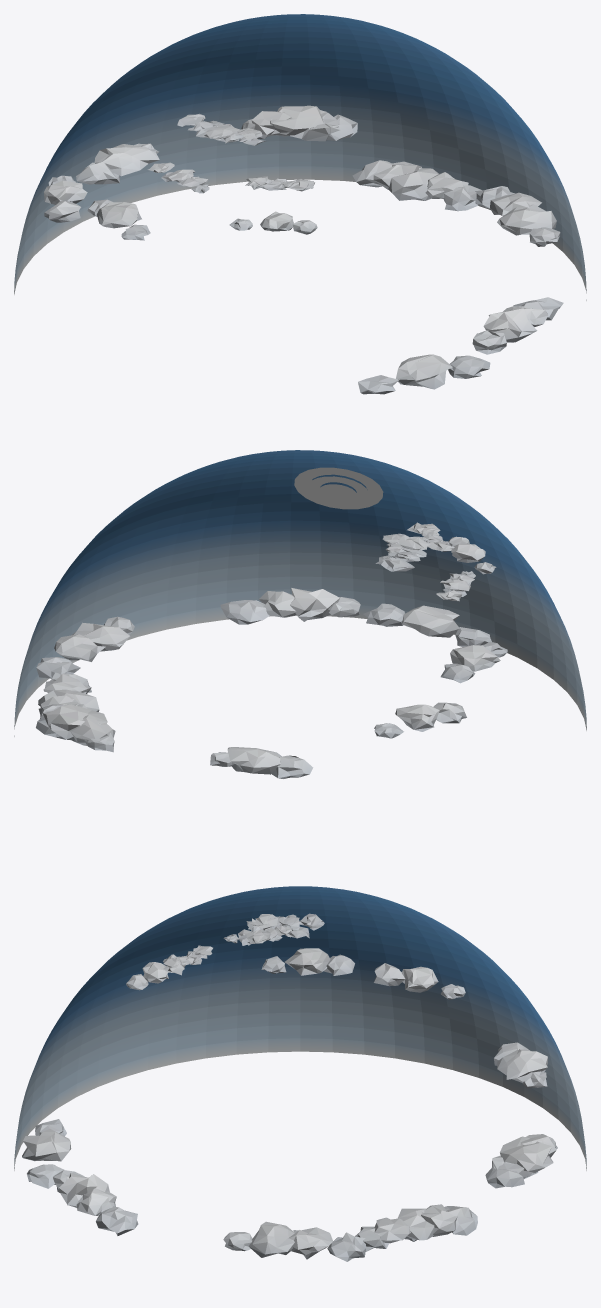
File: sky-day-dome.glb
3 views of the same model, one above another, from view 1: azimuth 30°, elevation 25°; view 2: azimuth 150°, elevation 25°; view 3: azimuth 270°, elevation 25° (orthographic).
Visible parts, largest first — view 1: sky_day_dome_02; view 2: sky_day_dome_02; view 3: sky_day_dome_02.
Part boxes in pixels (x1,y1,x2,y2): sky_day_dome_02: (14,14,586,394); sky_day_dome_02: (14,450,586,778); sky_day_dome_02: (14,886,586,1261).
Bounding box in the file's own units: 5.2 × 2.6 × 5.2.
